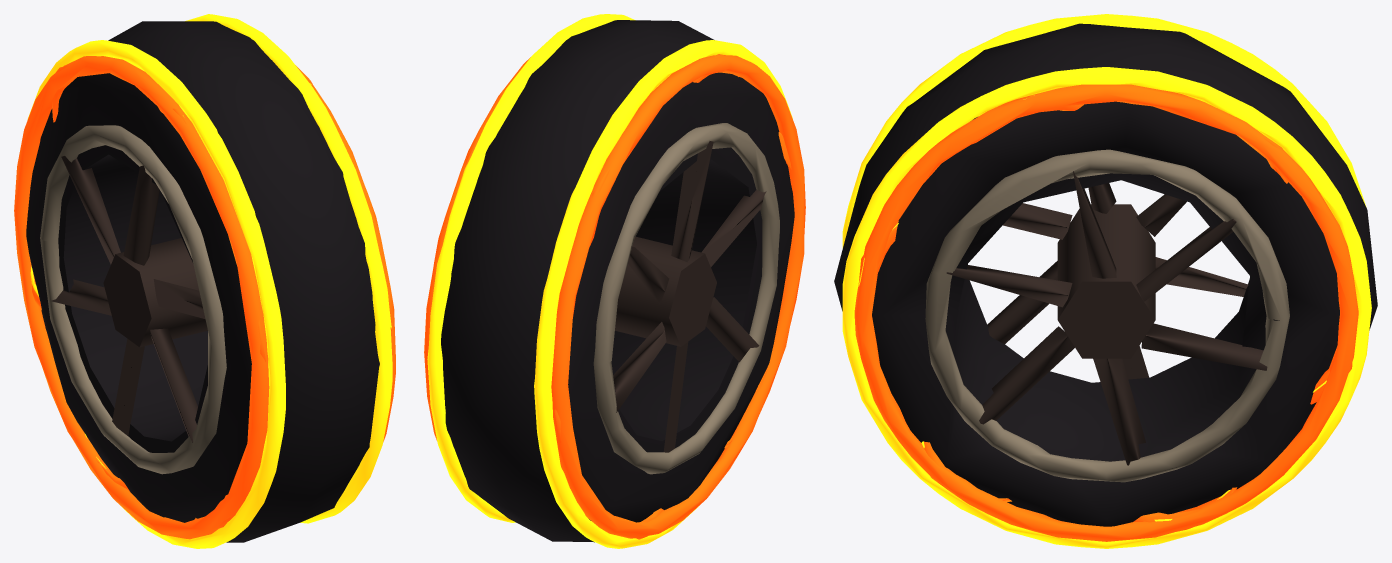
Rendered from A038-FLAME_MOTO_Wheel_R_Part_01_0907_f925e2d8_LOD.glb.
3 renders of one model, left to right at view 1: azimuth 30°, elevation 25°; view 2: azimuth 150°, elevation 25°; view 3: azimuth 270°, elevation 25°, orthographic.
Visible parts, largest first — view 1: FLAME_MOTO_Wheel_R_Part_01; view 2: FLAME_MOTO_Wheel_R_Part_01; view 3: FLAME_MOTO_Wheel_R_Part_01.
Boxes of the visible parts, x1,y1,x2,y2 form: FLAME_MOTO_Wheel_R_Part_01: (14,14,395,548); FLAME_MOTO_Wheel_R_Part_01: (424,14,805,548); FLAME_MOTO_Wheel_R_Part_01: (834,14,1377,548).
Size of the model in its own units: 0.2088 by 0.5845 by 0.5902.
